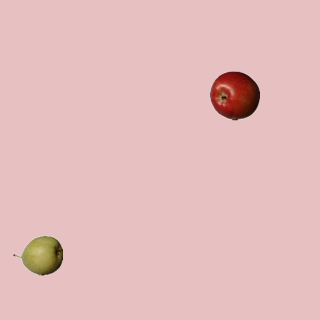Apple Braeburn: (209, 70, 259, 120)
Pear: (12, 230, 62, 280)
